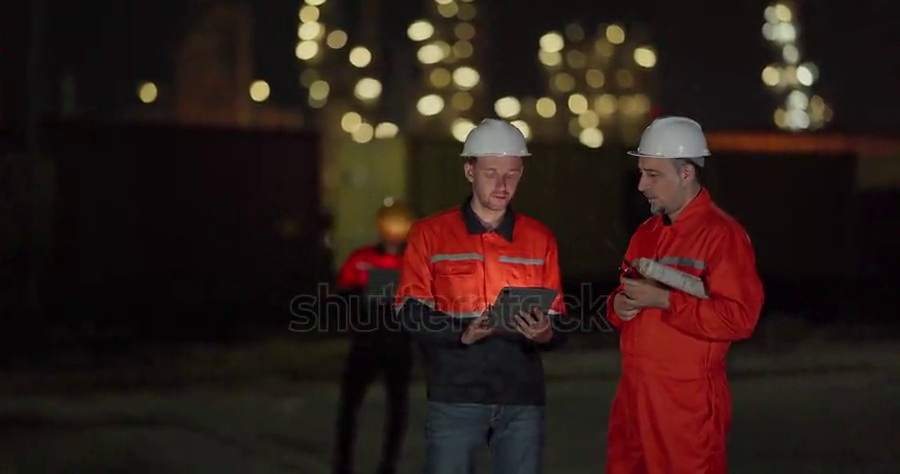helmet: (627, 115, 713, 160), (457, 120, 534, 158)
person: (393, 119, 565, 474), (600, 117, 767, 474), (331, 202, 415, 474)
